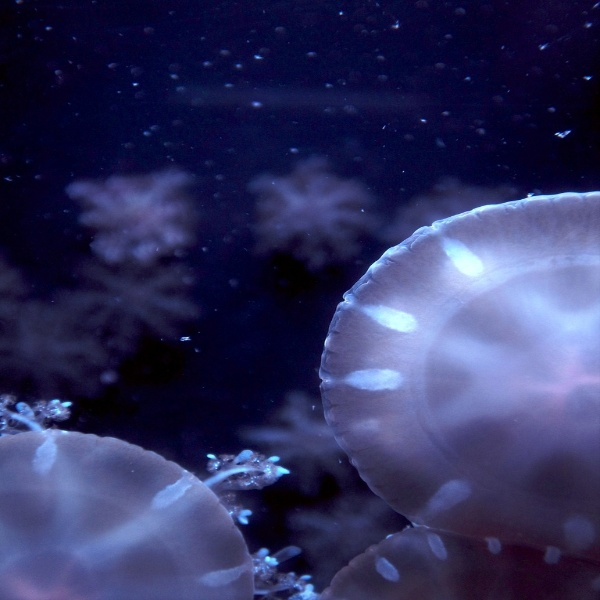Jellyfish: (309, 172, 600, 580), (0, 394, 320, 599)
